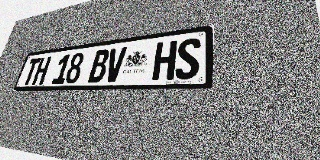1: (51, 54, 72, 84)
8: (64, 52, 86, 84)
B: (87, 49, 110, 83)
H: (152, 40, 177, 80), (32, 56, 52, 85)
S: (174, 37, 201, 80)
T: (21, 58, 41, 85)
V: (103, 47, 127, 82)
